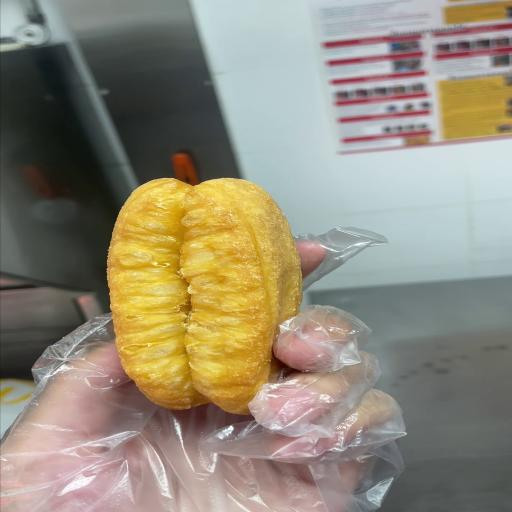brand_golden_good: (107, 178, 301, 414)
